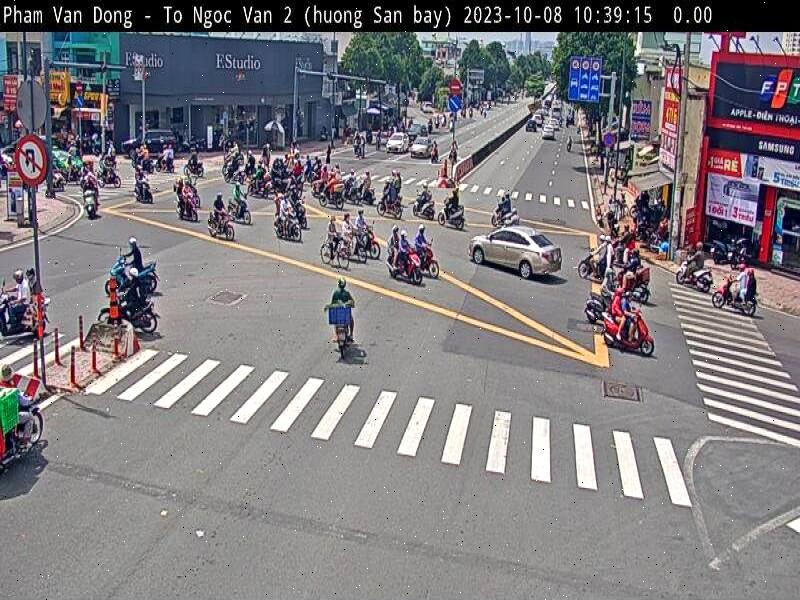car: (471, 230, 566, 281), (411, 140, 437, 161), (384, 136, 408, 154)
motorcycle: (600, 294, 655, 356)
